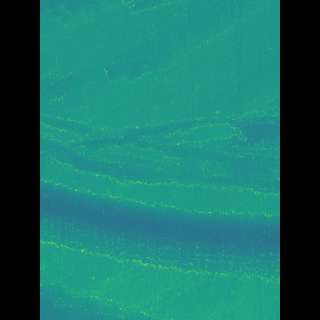Loch: (70, 180, 251, 287), (70, 103, 252, 198), (69, 284, 161, 319)
